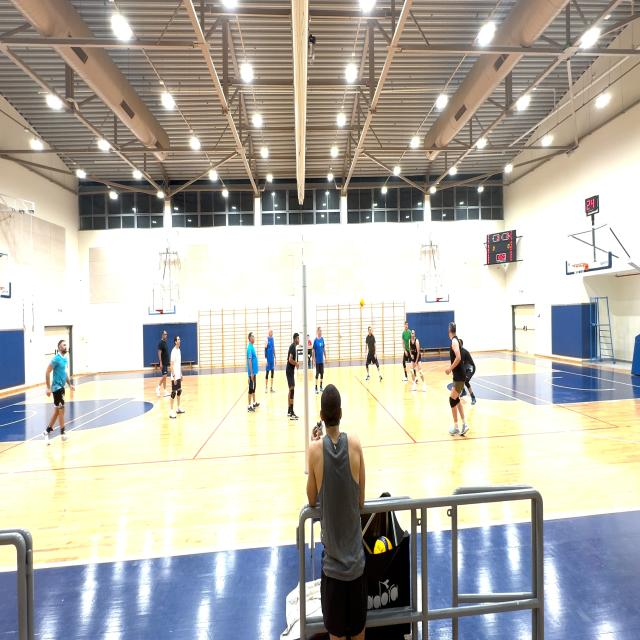volleyball: (360, 299, 364, 307)
